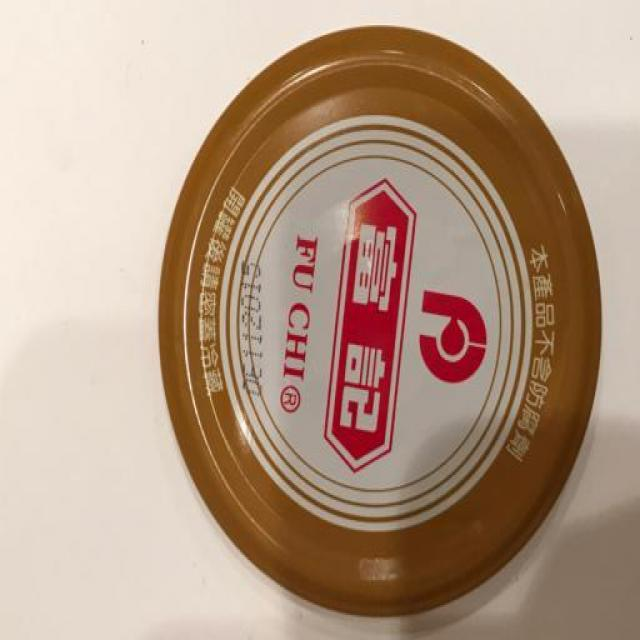metel: (136, 11, 622, 640)
